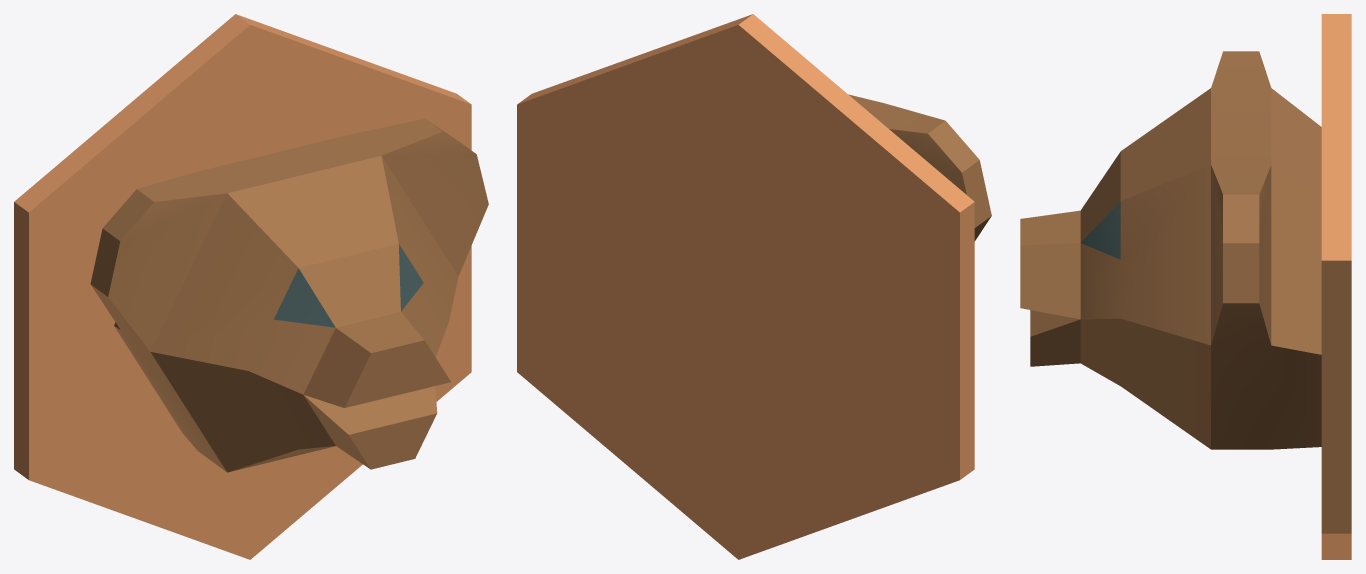
Rendered from bear.glb.
The picture shows the model from 3 angles, left to right: view 1: azimuth 30°, elevation 25°; view 2: azimuth 150°, elevation 25°; view 3: azimuth 270°, elevation 25°; orthographic projection. The views are drawn at different scales.
Visible parts, largest first — view 1: bear; view 2: bear; view 3: bear.
Part boxes in pixels (left/top/right/bottom): bear: left=14, top=14, right=488, bottom=559; bear: left=517, top=14, right=991, bottom=559; bear: left=1020, top=14, right=1351, bottom=559.
Size of the model in its own units: 0.6204 by 0.7163 by 0.394.
